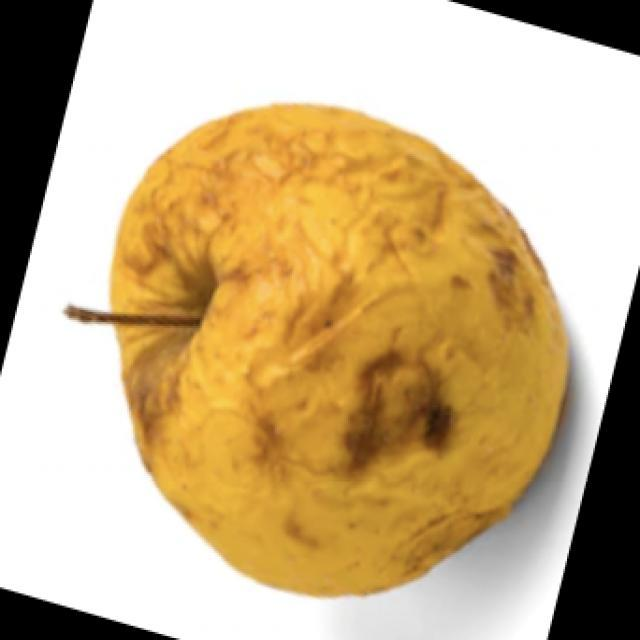Rotten: (122, 127, 570, 590)
